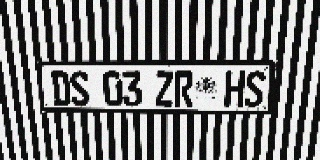0: (102, 71, 123, 106)
3: (122, 71, 142, 106)
D: (50, 71, 71, 106)
H: (224, 71, 245, 107)
R: (174, 71, 194, 107)
S: (244, 71, 266, 107), (69, 71, 90, 106)
Z: (155, 71, 174, 107)
